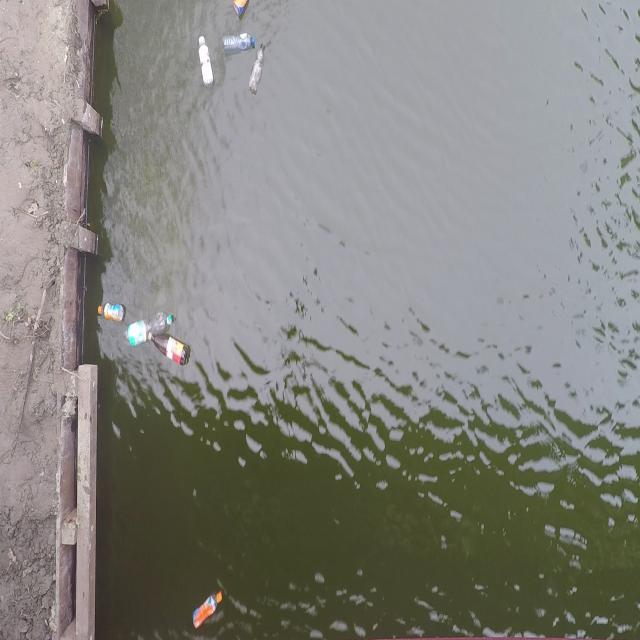Bouteille plastique: (121, 300, 181, 358), (143, 330, 194, 372), (189, 582, 228, 631), (196, 28, 216, 92), (247, 41, 269, 97), (220, 28, 258, 54), (96, 299, 126, 326)
